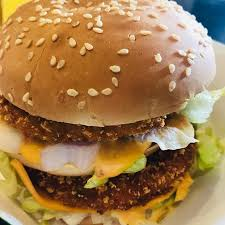hamburger: (1, 1, 219, 224)
